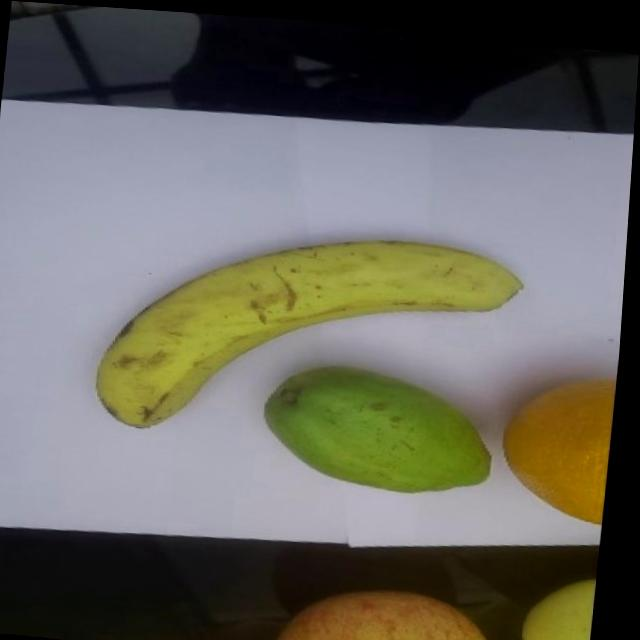Apple: (281, 570, 513, 640)
Banana: (93, 205, 534, 460)
Orange: (495, 357, 622, 521)
